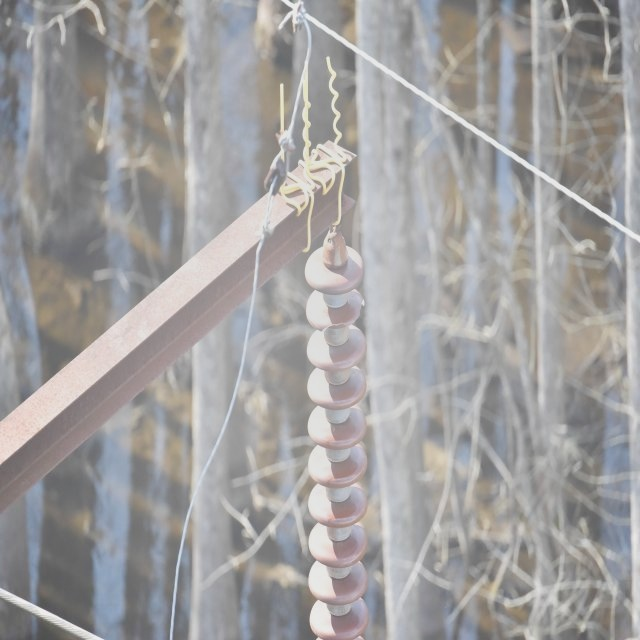broken: (318, 295, 369, 334)
insulator: (303, 244, 370, 638)
